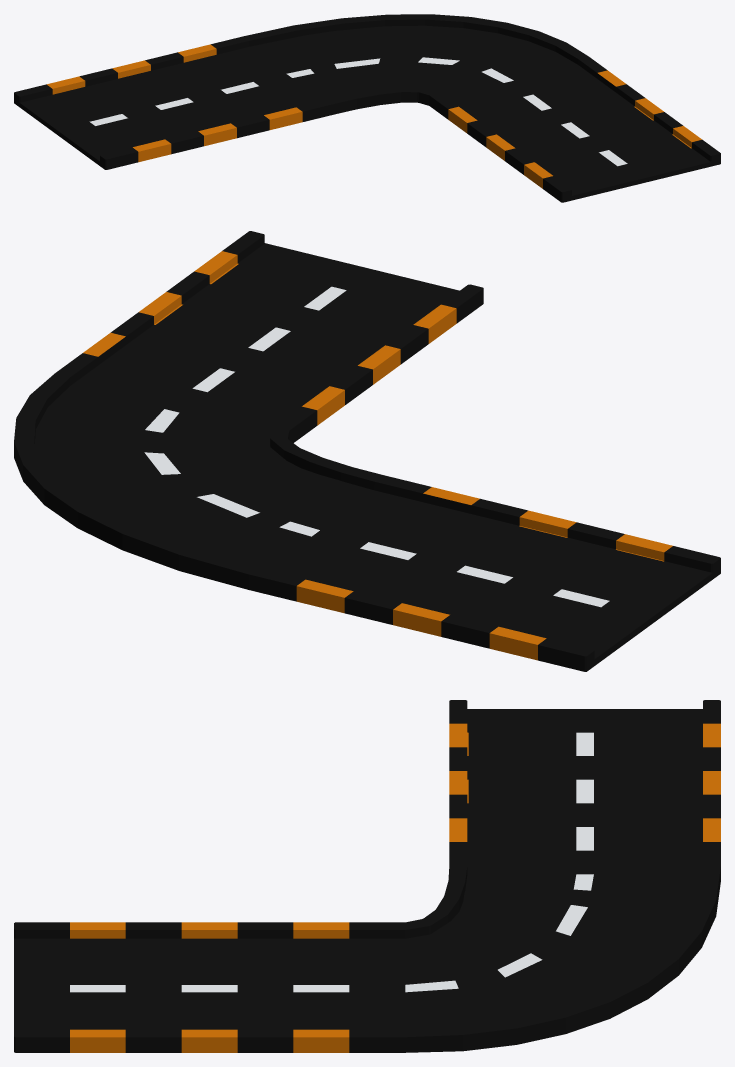
File: Road_Curve_90_01.fbx
3 renders of one model, top to bottom at view 1: azimuth 30°, elevation 25°; view 2: azimuth 150°, elevation 25°; view 3: azimuth 270°, elevation 25°, orthographic. The views are drawn at different scales.
Visible parts, largest first — view 1: Road_Curve_90_01; view 2: Road_Curve_90_01; view 3: Road_Curve_90_01.
Part boxes in pixels (x1,y1,x2,y2): Road_Curve_90_01: (14, 14, 720, 202); Road_Curve_90_01: (14, 231, 720, 671); Road_Curve_90_01: (14, 700, 720, 1052).
Bounding box in the file's own units: 14.23 × 0.3298 × 12.61.
